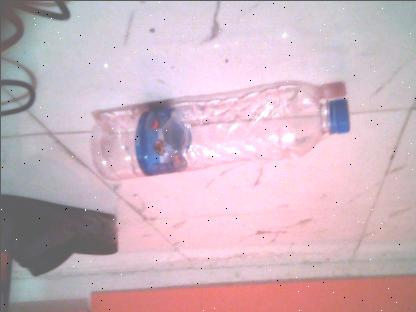Plastic Bottle: (77, 95, 351, 176)
